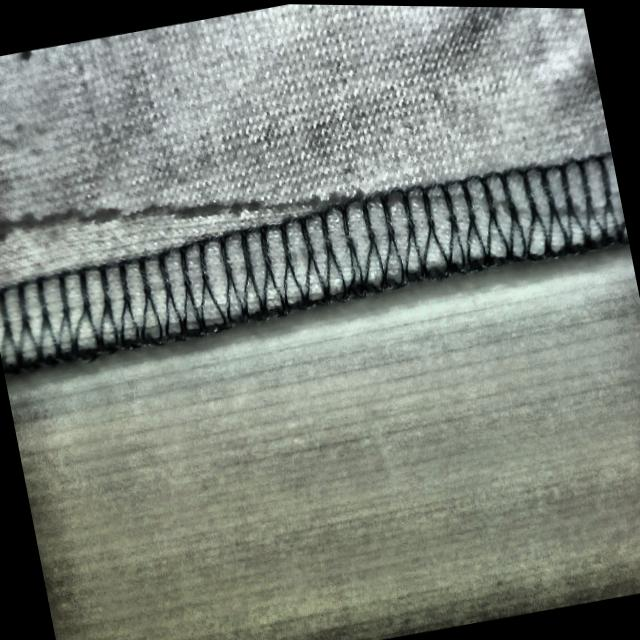seam: (0, 120, 352, 382)
